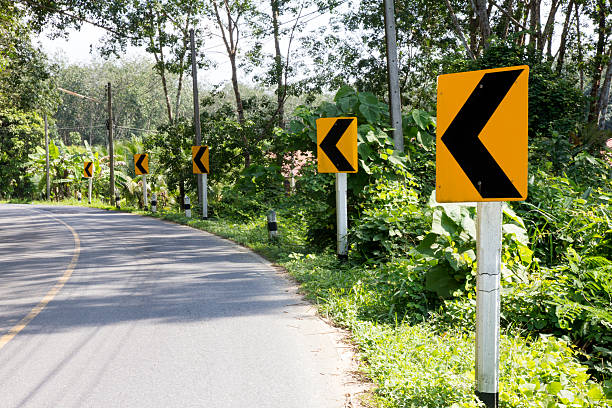left turn: (439, 73, 528, 201), (317, 118, 358, 173), (193, 146, 209, 174), (134, 152, 150, 175), (83, 161, 93, 177)
